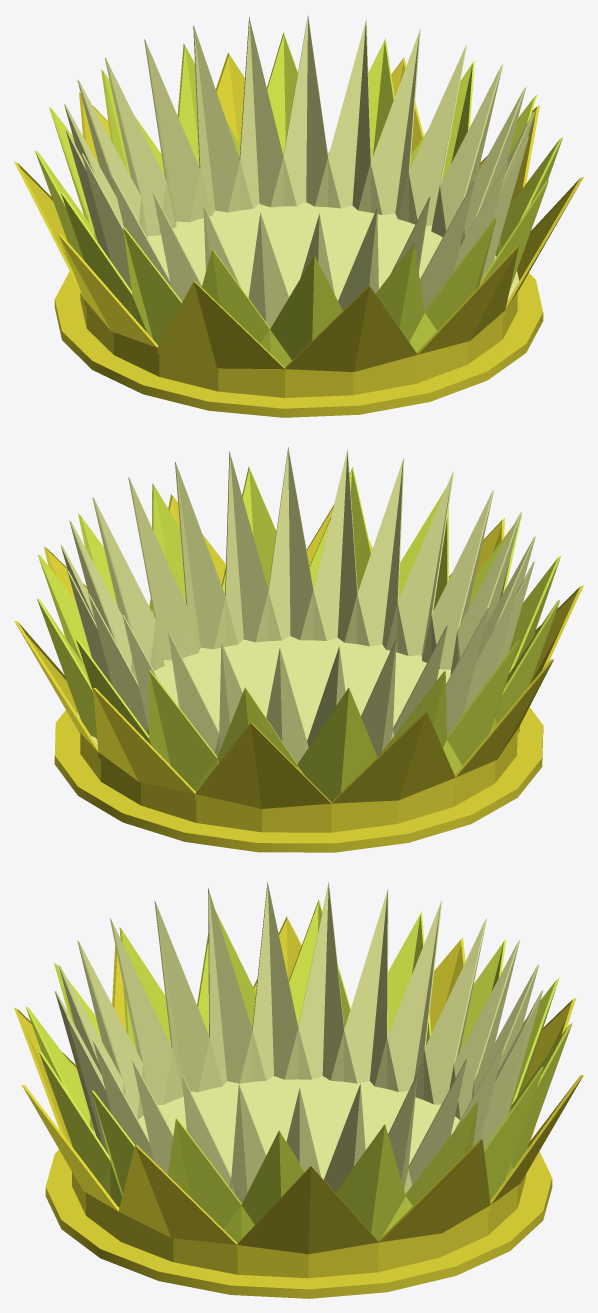
Rendered from portal_000009.obj.
3 renders of one model, top to bottom at view 1: azimuth 30°, elevation 25°; view 2: azimuth 150°, elevation 25°; view 3: azimuth 270°, elevation 25°, orthographic. The views are drawn at different scales.
Parts seen in each view (by area): view 1: Cylinder.001, pCylinder1, Cylinder; view 2: Cylinder.001, pCylinder1, Cylinder; view 3: Cylinder.001, pCylinder1, Cylinder.
Part boxes in pixels (x1,y1,x2,y2): Cylinder.001: (64, 14, 534, 328); pCylinder1: (14, 52, 583, 417); Cylinder: (35, 32, 562, 367); Cylinder.001: (60, 447, 535, 763); pCylinder1: (14, 494, 583, 852); Cylinder: (37, 466, 560, 801); Cylinder.001: (55, 882, 543, 1203); pCylinder1: (14, 916, 583, 1298); Cylinder: (25, 899, 572, 1242).
Size of the model in its own units: 7.44 by 2.9 by 7.17.
3 materials, 3 textured.
